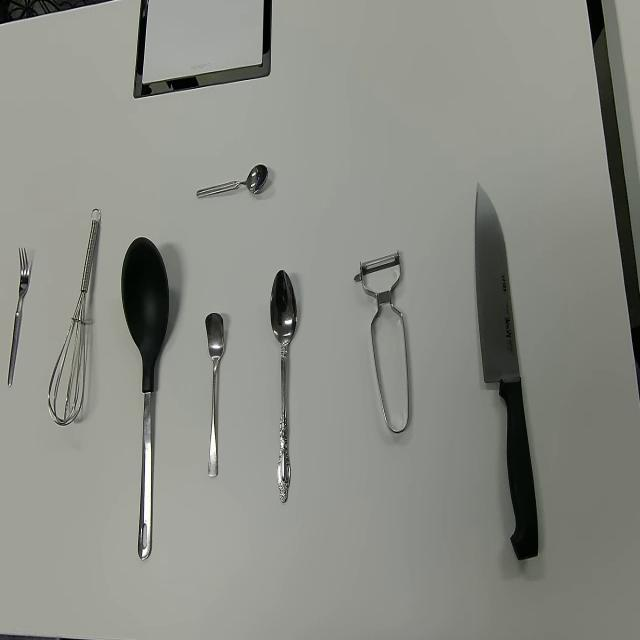Desert-Spoon: (269, 268, 298, 504)
Dinner-Fork: (7, 245, 30, 389)
Kitchen-Knife: (474, 181, 539, 562)
Peeler: (354, 250, 409, 435)
Serving-Spoon: (120, 235, 170, 562)
Tea-Spoon: (205, 311, 225, 479), (195, 162, 268, 201)
Whisk: (46, 208, 102, 428)
